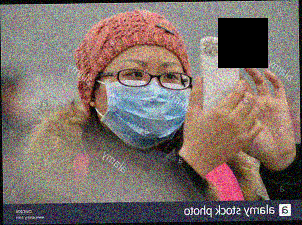with_mask: (97, 56, 194, 151)
